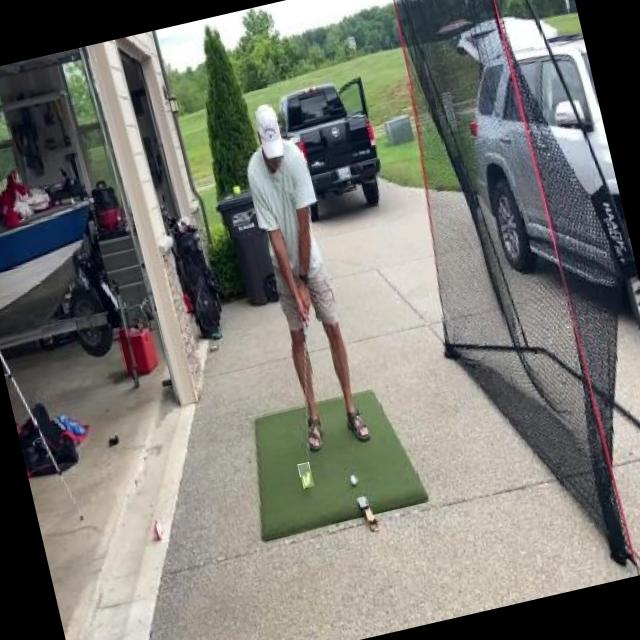club head: (298, 461, 314, 488)
